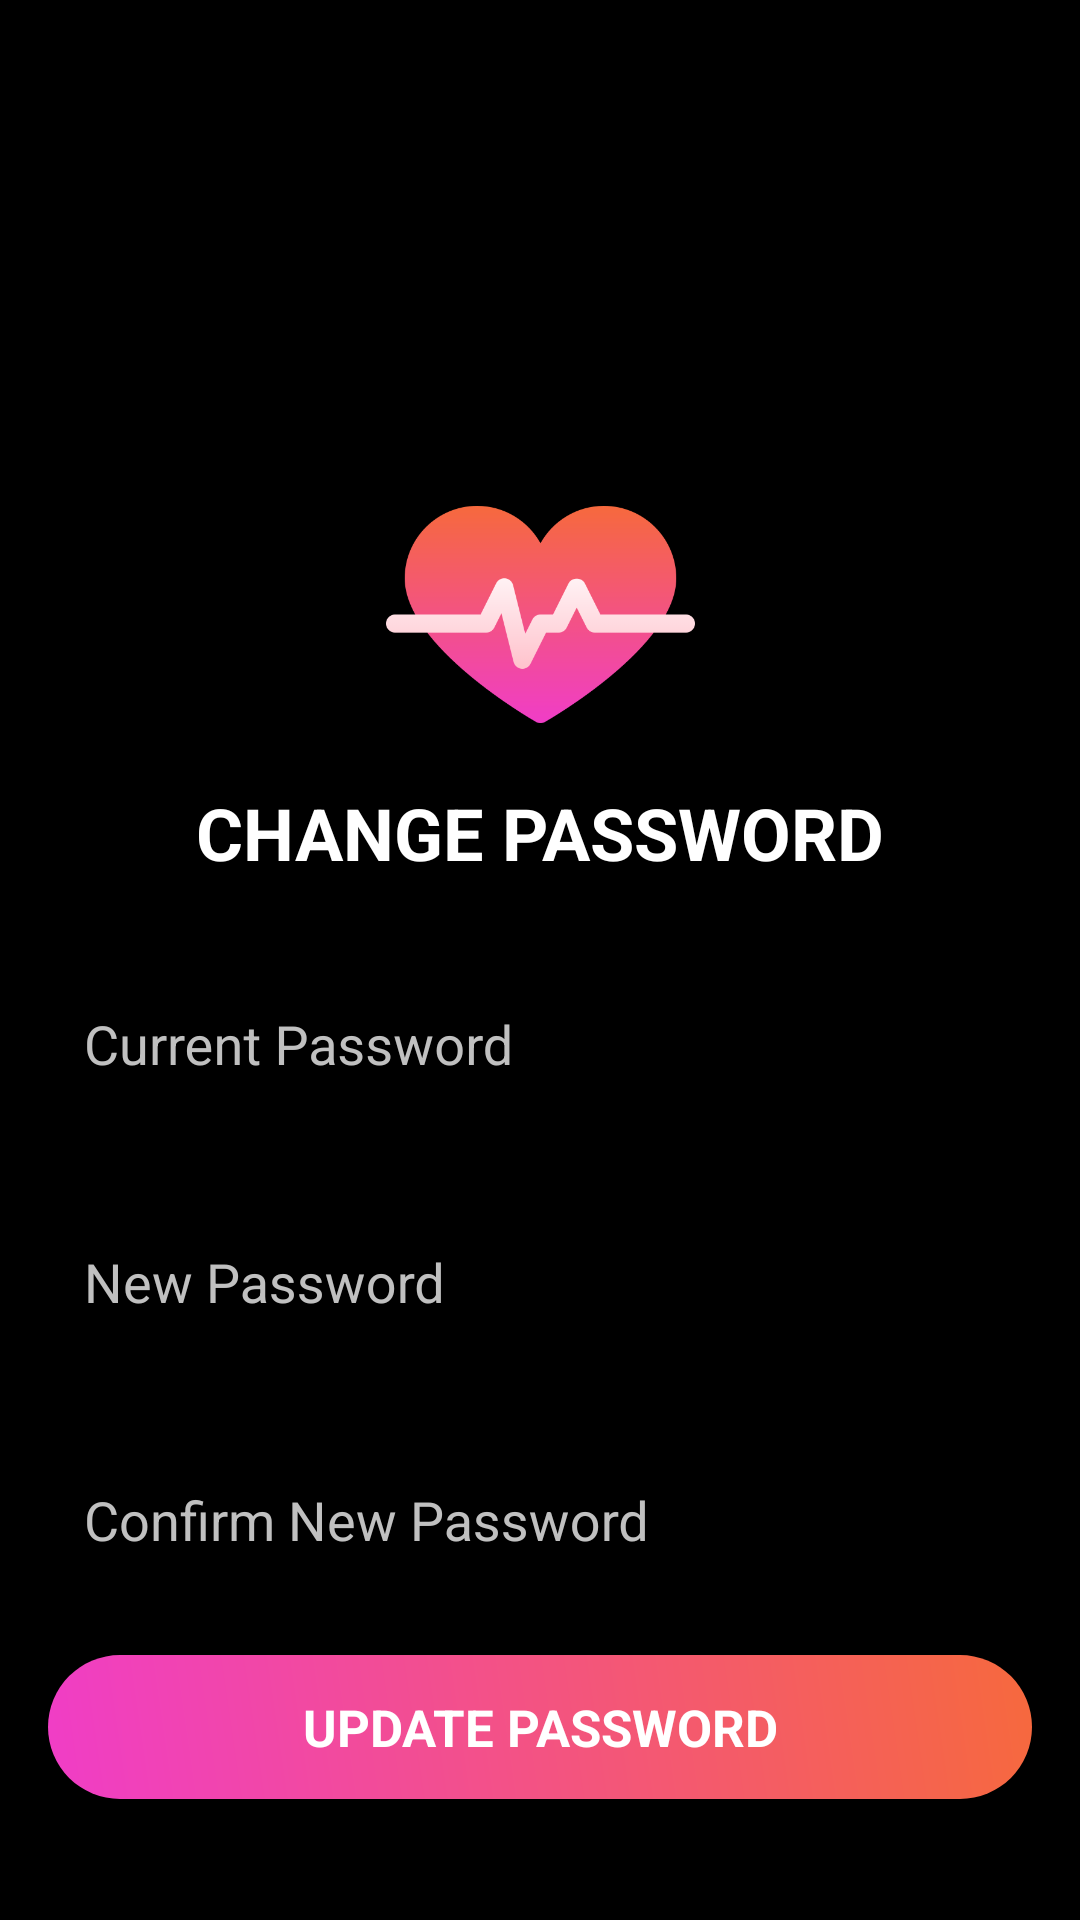

Locate icon controls on the screen. Image size 1080 × 1920, boxes as (x1=x1, y1=y1, x2=x2, y2=y2).
heart beat: (x1=386, y1=506, x2=695, y2=723)
